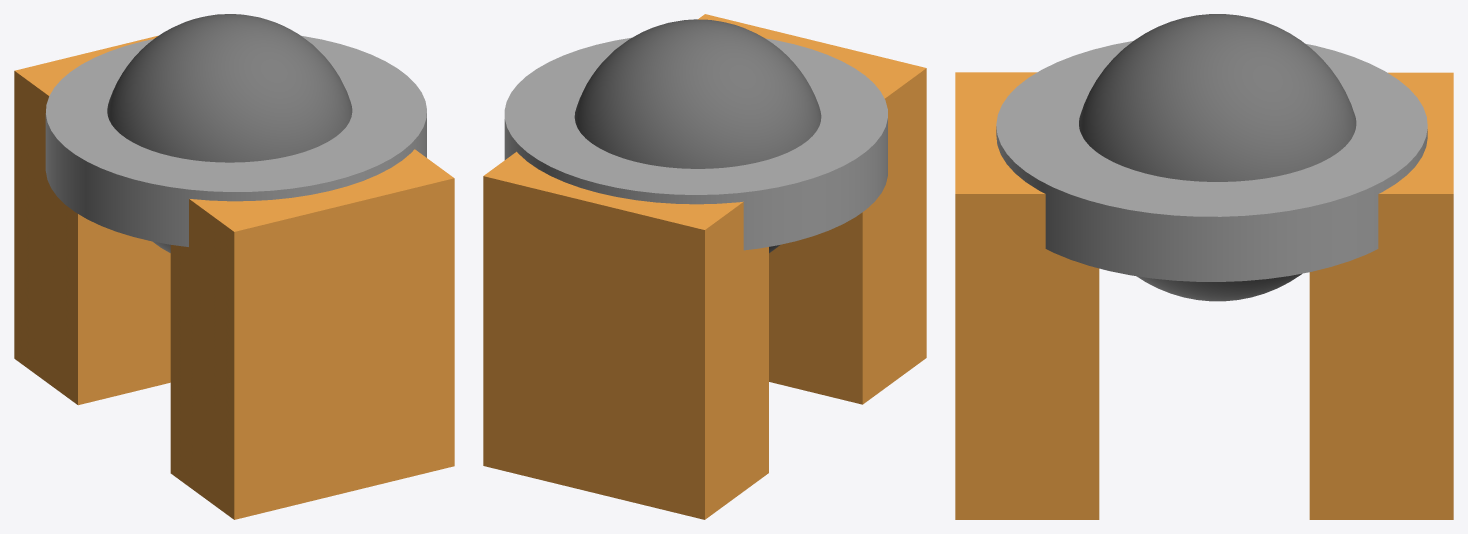
File: SethJohnson.gltf
The picture shows the model from 3 angles, left to right: view 1: azimuth 30°, elevation 25°; view 2: azimuth 150°, elevation 25°; view 3: azimuth 270°, elevation 25°; orthographic projection. The views are drawn at different scales.
Parts seen in each view (by area): view 1: mesh2_mesh_2 (×2), mesh2_mesh_1 (×2), mesh0_mesh, mesh8_mesh, mesh8_mesh_2, mesh2_mesh_4 (×2), mesh8_mesh_1; view 2: mesh2_mesh (×2), mesh2_mesh_1 (×2), mesh0_mesh, mesh8_mesh, mesh8_mesh_1, mesh2_mesh_4 (×2), mesh8_mesh_2; view 3: mesh2_mesh_3 (×2), mesh0_mesh, mesh8_mesh, mesh8_mesh_1, mesh2_mesh_4 (×2), mesh8_mesh_2, mesh0_mesh_1.
Boxes of the visible parts, x1,y1,x2,y2 form: mesh2_mesh_2 (×2): (78, 178, 454, 519); mesh2_mesh_1 (×2): (14, 71, 234, 519); mesh0_mesh: (107, 14, 352, 162); mesh8_mesh: (46, 35, 426, 191); mesh8_mesh_2: (57, 113, 426, 246); mesh2_mesh_4 (×2): (15, 35, 453, 231); mesh8_mesh_1: (45, 114, 57, 196); mesh2_mesh (×2): (483, 176, 862, 519); mesh2_mesh_1 (×2): (705, 68, 926, 519); mesh0_mesh: (574, 19, 821, 168); mesh8_mesh: (504, 37, 887, 194); mesh8_mesh_1: (504, 119, 843, 250); mesh2_mesh_4 (×2): (484, 14, 926, 229); mesh8_mesh_2: (843, 118, 887, 223); mesh2_mesh_3 (×2): (955, 194, 1453, 519); mesh0_mesh: (1079, 14, 1356, 181); mesh8_mesh: (996, 41, 1427, 216); mesh8_mesh_1: (1174, 129, 1427, 281); mesh2_mesh_4 (×2): (955, 72, 1453, 193); mesh8_mesh_2: (996, 126, 1174, 280); mesh0_mesh_1: (1137, 273, 1301, 301).
Bounding box in the file's own units: 0.1523 × 0.1684 × 0.1759.
